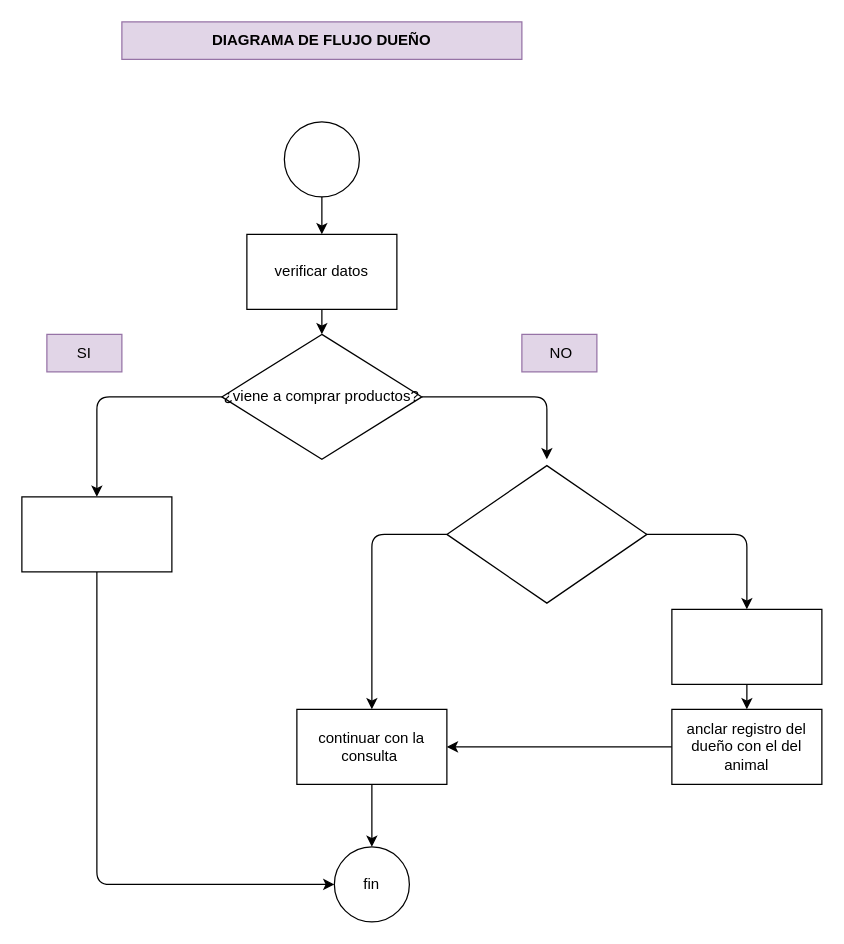
The diagram is 844 pixels wide and 944 high, and some of its shapes have lost their labels. Here are the shapes that lost their labels. From the top down, the centre of each, then its label:
point 321,159: Inicio
point 96,534: procede a comprar su producto
point 546,533: cuenta con registro en nuestra cliniica
point 746,646: crear registro de dueño
